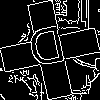D: (25, 25, 70, 77)
